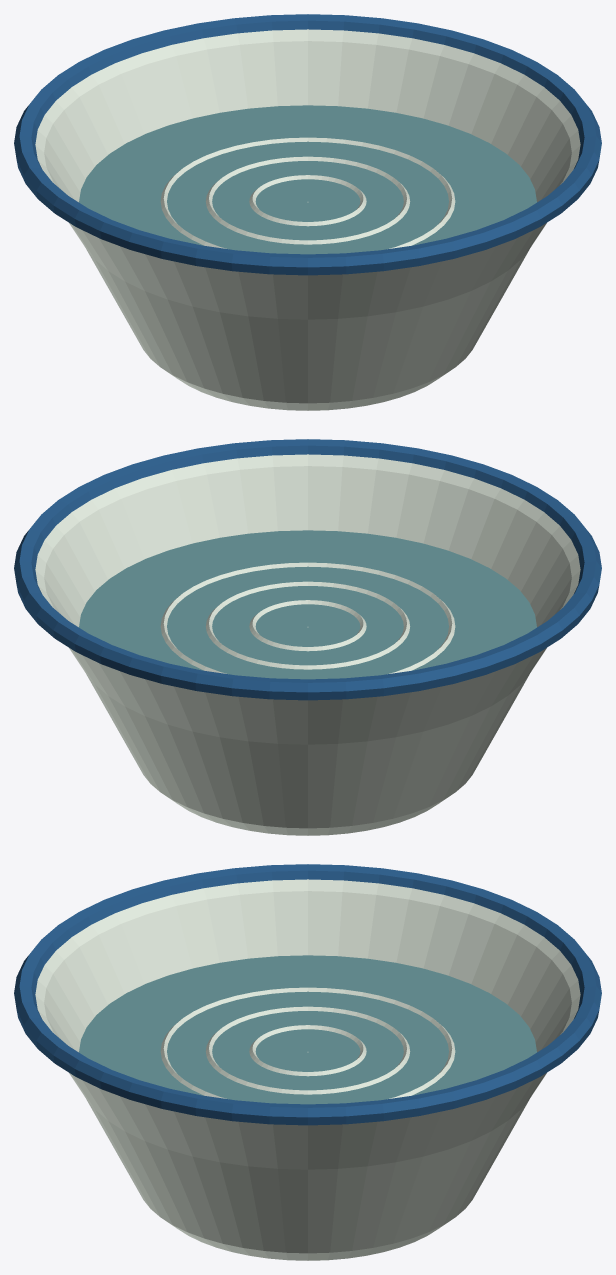
Rendered from basin.glb.
The picture shows the model from 3 angles, top to bottom: view 1: azimuth 30°, elevation 25°; view 2: azimuth 150°, elevation 25°; view 3: azimuth 270°, elevation 25°; orthographic projection.
Parts seen in each view (by area): view 1: Enamel bowl, Rain surface, Rolled blue rim, BasinRipple; view 2: Enamel bowl, Rain surface, Rolled blue rim, BasinRipple; view 3: Enamel bowl, Rain surface, Rolled blue rim, BasinRipple.
Boxes of the visible parts, left/top/right/bottom form: Enamel bowl: left=35, top=29, right=580, bottom=410; Rain surface: left=79, top=105, right=536, bottom=254; Rolled blue rim: left=14, top=14, right=601, bottom=275; BasinRipple: left=160, top=137, right=455, bottom=248; Enamel bowl: left=35, top=454, right=580, bottom=835; Rain surface: left=79, top=530, right=536, bottom=679; Rolled blue rim: left=14, top=439, right=601, bottom=700; BasinRipple: left=160, top=562, right=455, bottom=673; Enamel bowl: left=35, top=879, right=580, bottom=1260; Rain surface: left=79, top=955, right=536, bottom=1104; Rolled blue rim: left=14, top=864, right=601, bottom=1125; BasinRipple: left=160, top=987, right=455, bottom=1098.
Bounding box in the file's own units: 0.742 × 0.294 × 0.742.
